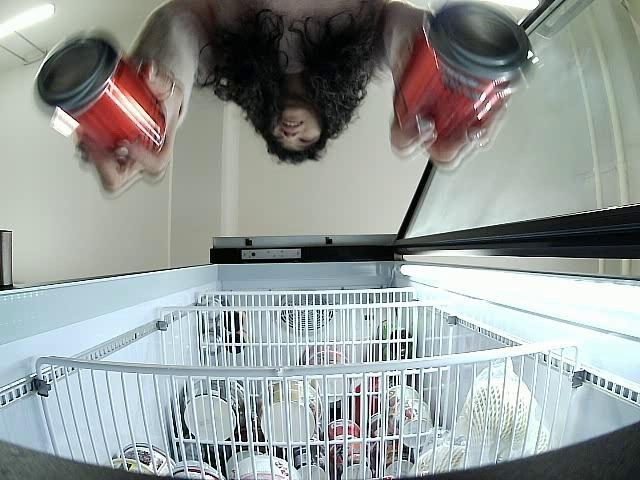11_cocaColaZero: (393, 0, 534, 147), (35, 32, 166, 161)
